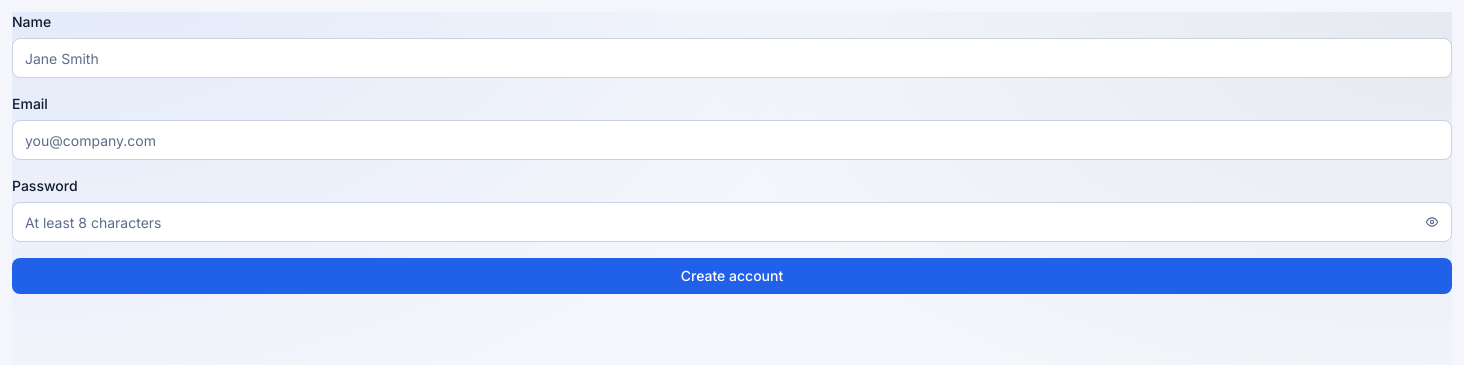
Scenario: RegisterForm › does not blame the cookie when register returns 200 without a session
In the field labelled "Name": coordinates (732, 58) [12, 38, 1452, 78], type "Owner"
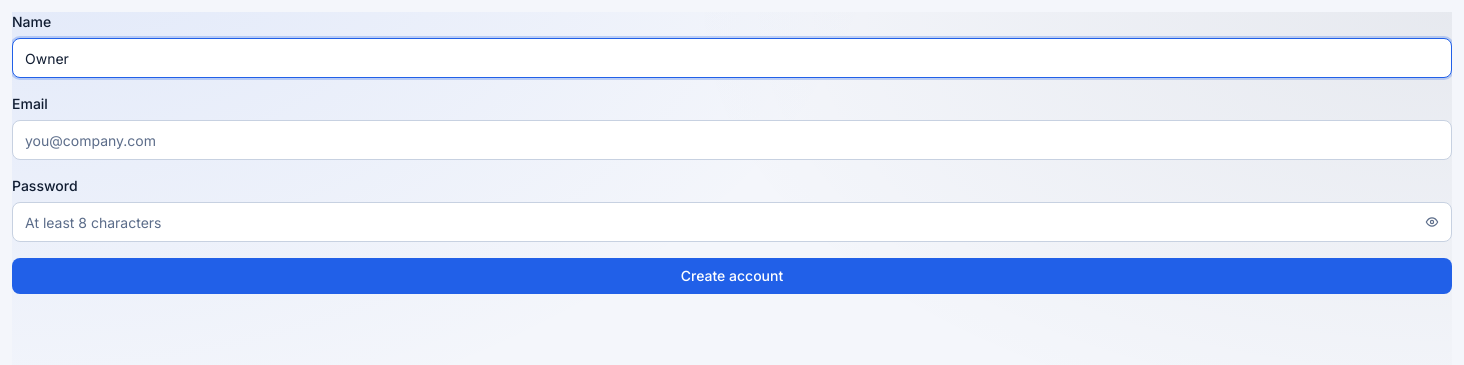
In the field labelled "Email": coordinates (732, 140) [12, 120, 1452, 160], type "owner@example.com"
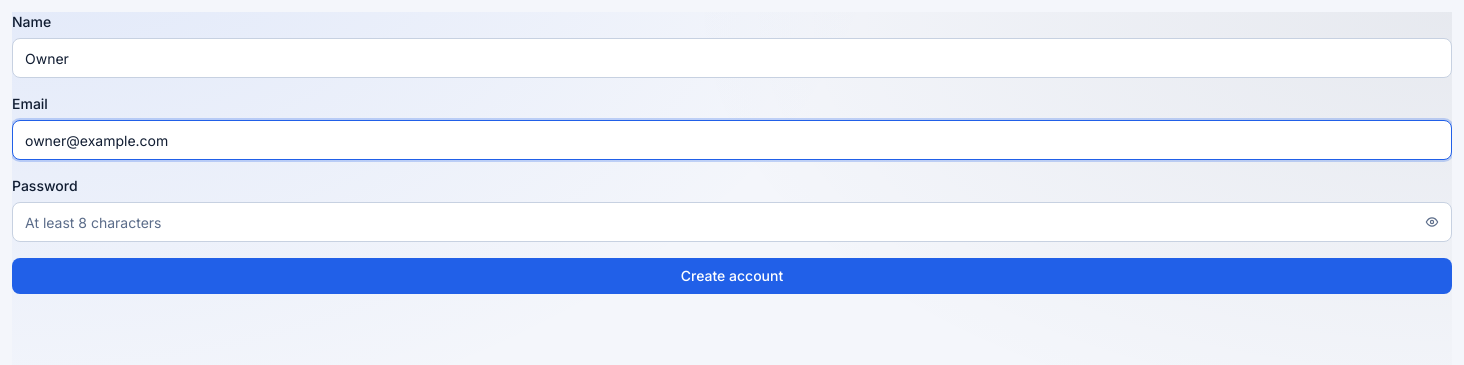
In the password field labelled "Password": coordinates (732, 222) [12, 202, 1452, 242], type "password1"
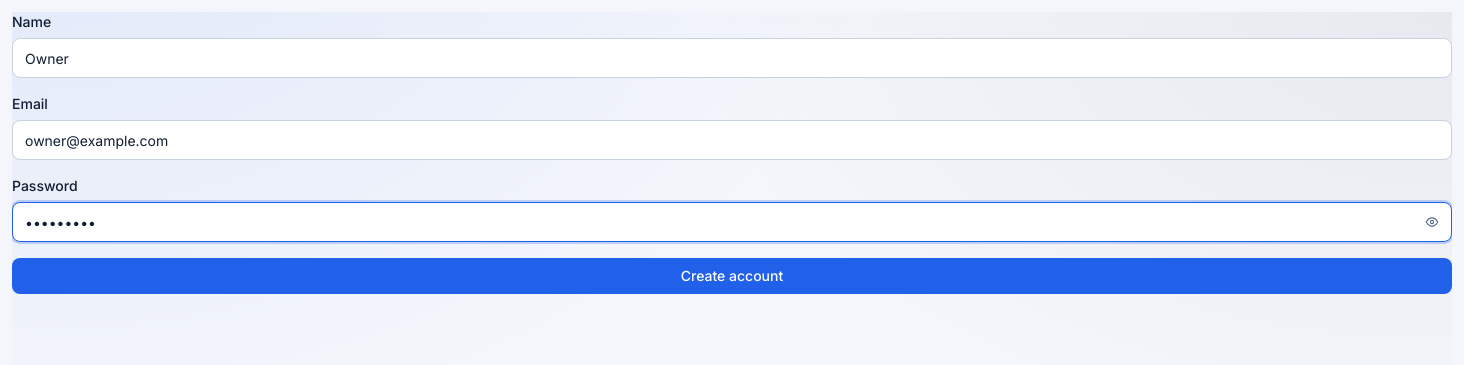
Click the button "Create account": coordinates (732, 276) [12, 258, 1452, 294]
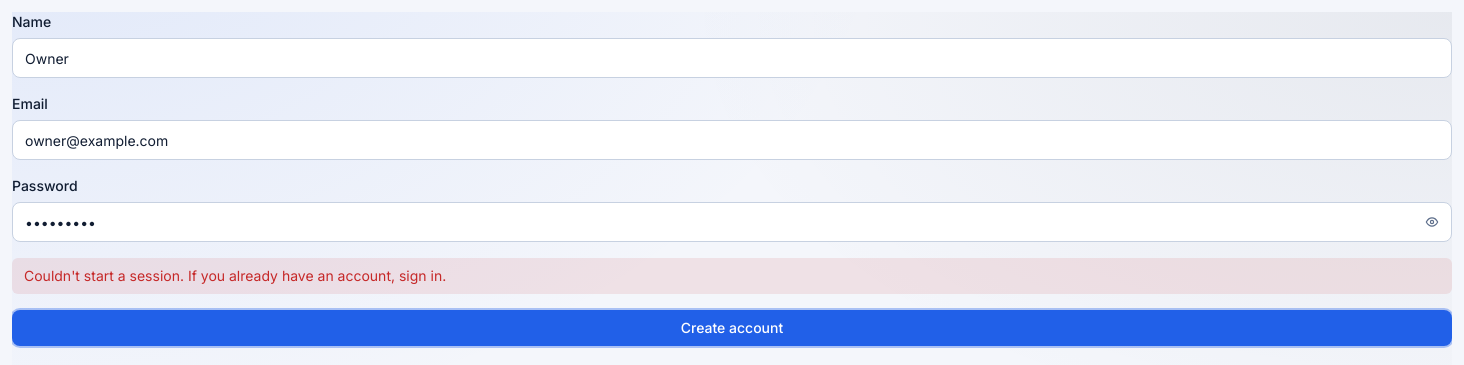
Expected: the text "Couldn't start a session. If you already have an account, sign in." is shown, [12, 258, 1452, 294]
